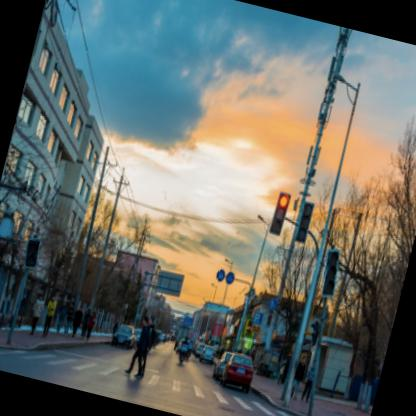trafficlight: (314, 242, 344, 298), (266, 184, 292, 236), (294, 198, 314, 242)
